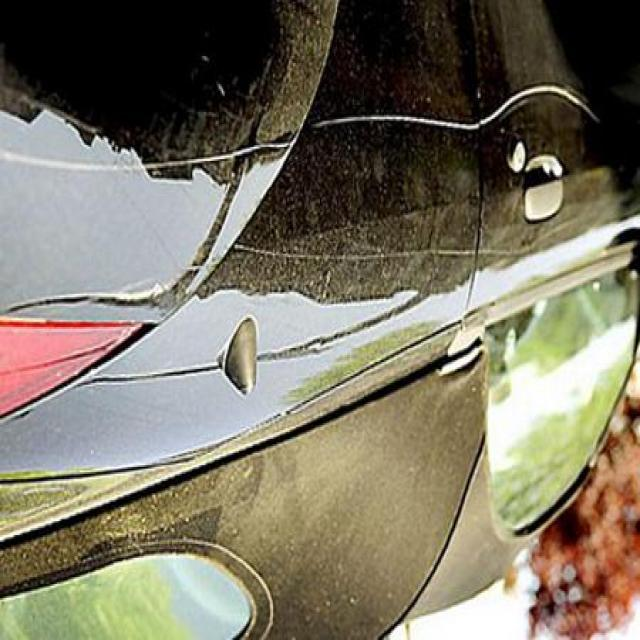scratch: (311, 76, 611, 150), (148, 134, 293, 188), (241, 236, 473, 266)
